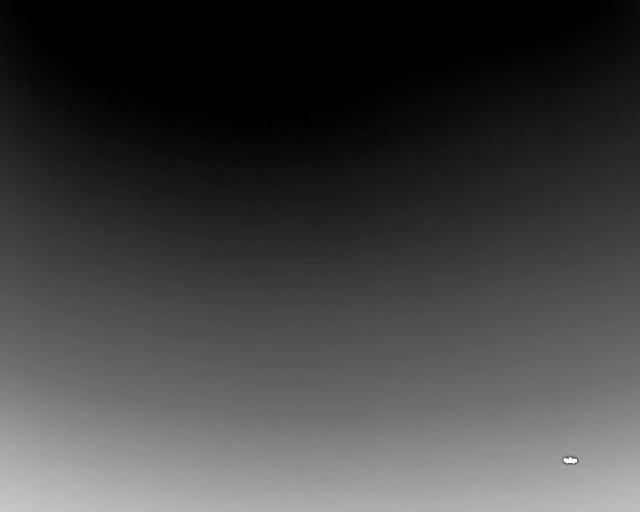fpv-drone: (562, 455, 578, 465)
